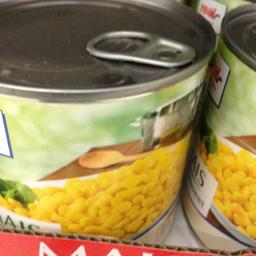corn: (0, 0, 210, 240), (180, 9, 254, 249)
